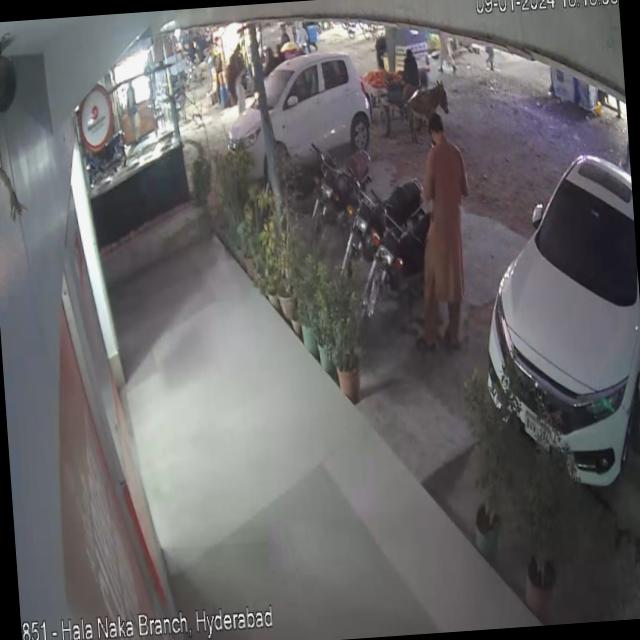Car: (466, 104, 640, 506), (200, 35, 377, 170)
Motorcycle: (346, 219, 468, 342), (324, 170, 434, 282), (307, 137, 381, 235)
